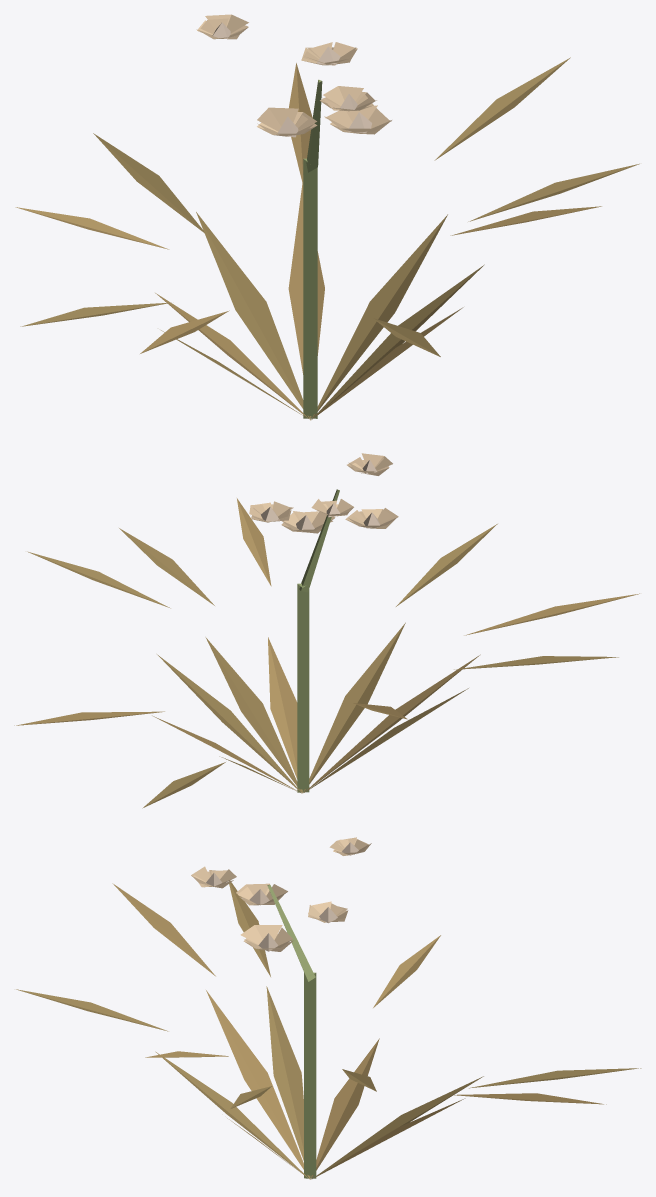
File: hua.lan@fruiting__autumn.glb
3 views of the same model, one above another, from view 1: azimuth 30°, elevation 25°; view 2: azimuth 150°, elevation 25°; view 3: azimuth 270°, elevation 25° (orthographic). The views are drawn at different scales.
Visible parts, largest first — view 1: hua.lan@fruiting__autumn; view 2: hua.lan@fruiting__autumn; view 3: hua.lan@fruiting__autumn.
Part boxes in pixels (left/top/right/bottom): hua.lan@fruiting__autumn: left=15, top=14, right=639, bottom=420; hua.lan@fruiting__autumn: left=14, top=453, right=639, bottom=808; hua.lan@fruiting__autumn: left=16, top=837, right=641, bottom=1179.
Bounding box in the file's own units: 1.35 × 0.7869 × 1.43.
